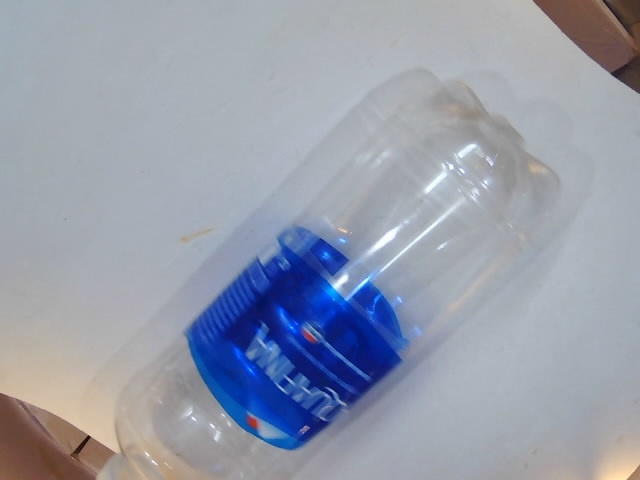plastic: (106, 86, 557, 480)
